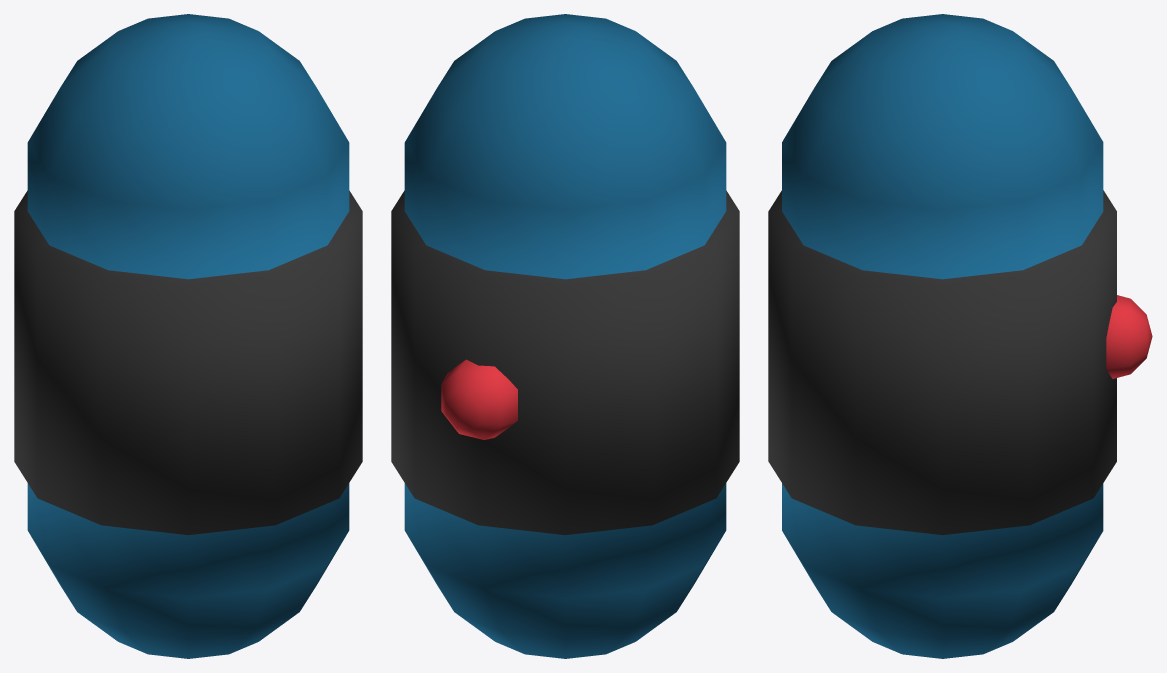
File: robot.fbx
The picture shows the model from 3 angles, left to right: view 1: azimuth 30°, elevation 25°; view 2: azimuth 150°, elevation 25°; view 3: azimuth 270°, elevation 25°; orthographic projection.
Visible parts, largest first — view 1: Cylinder; view 2: Cylinder; view 3: Cylinder.
Part boxes in pixels (bbox=[...]): Cylinder: bbox=[14, 14, 362, 658]; Cylinder: bbox=[391, 14, 739, 658]; Cylinder: bbox=[768, 14, 1152, 658].
Bounding box in the file's own units: 163 × 315 × 179.
